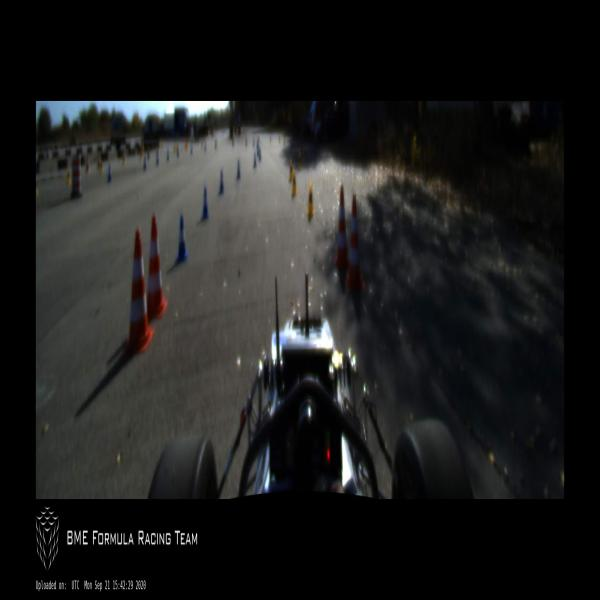blue_cone: (176, 216, 188, 264), (202, 187, 209, 221), (218, 168, 224, 194), (236, 160, 241, 180), (107, 164, 112, 184), (258, 147, 262, 162), (176, 144, 179, 158), (156, 150, 159, 164), (190, 142, 193, 155), (167, 148, 170, 160), (254, 152, 256, 168), (144, 156, 146, 170), (257, 139, 259, 152), (215, 138, 217, 151), (245, 136, 247, 147), (232, 136, 234, 147), (253, 138, 255, 148), (205, 140, 206, 150)
large_orange_cone: (126, 230, 155, 358), (147, 215, 168, 322), (344, 193, 366, 292), (334, 185, 348, 271)
yellow_cone: (307, 183, 314, 217), (291, 168, 297, 198), (66, 165, 71, 185), (289, 158, 293, 182), (298, 152, 301, 170), (99, 161, 103, 174), (122, 154, 126, 166), (184, 138, 188, 150), (160, 139, 163, 150), (147, 148, 150, 159), (284, 136, 286, 146), (278, 135, 280, 145), (174, 144, 176, 154), (202, 139, 204, 148), (270, 136, 272, 144)
